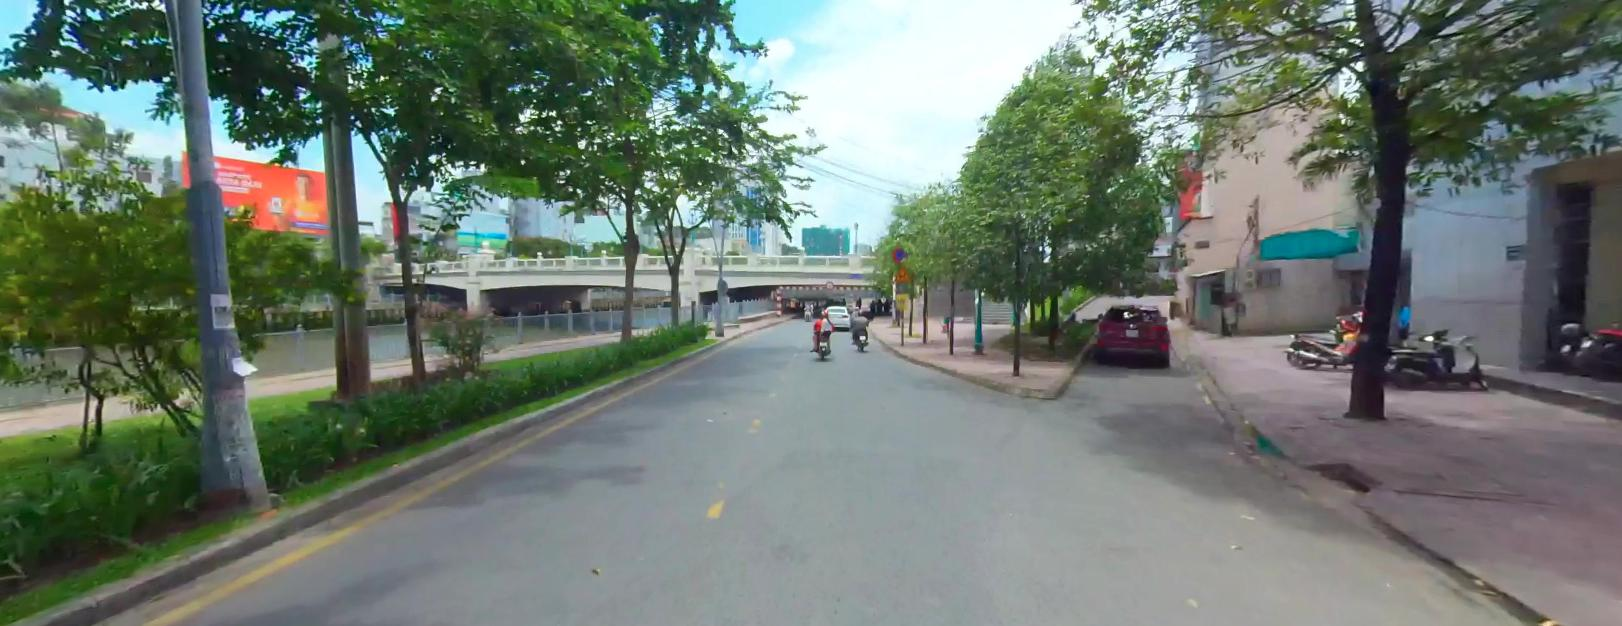Cam con lai: (825, 280, 832, 288)
Cam dung va do: (892, 242, 911, 262)
Nguy hiem: (893, 263, 913, 281)
